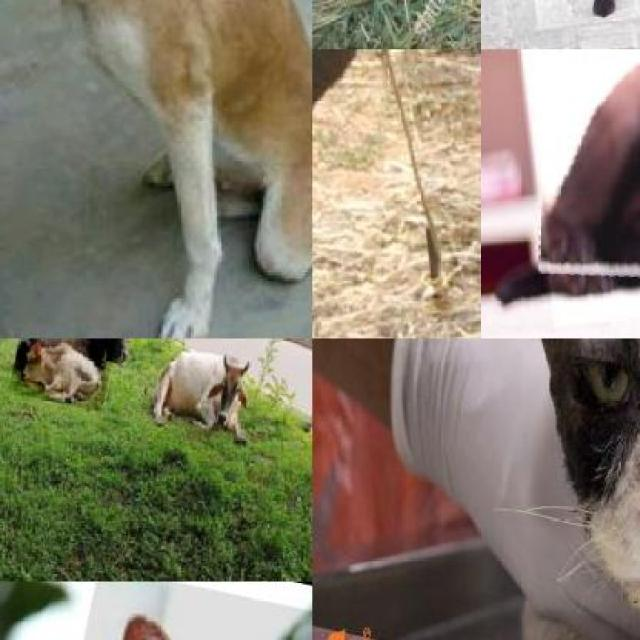buffalo: (312, 49, 440, 338)
cat: (495, 338, 640, 640)
cow: (138, 338, 264, 444), (6, 338, 117, 411)
dog: (0, 0, 312, 264), (515, 49, 640, 326)
injured: (231, 109, 312, 337)
